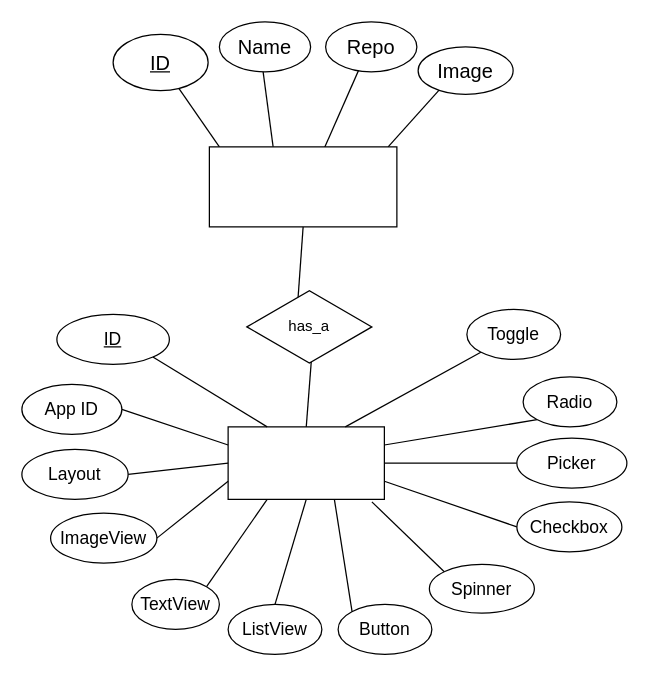
The diagram is 649 pixels wide and 676 high, and some of its shapes have lost their labels. The centre of each missing label's shape, as x and y in pixels:
"Application" goes at [302,186].
"Screen" goes at [305,462].
